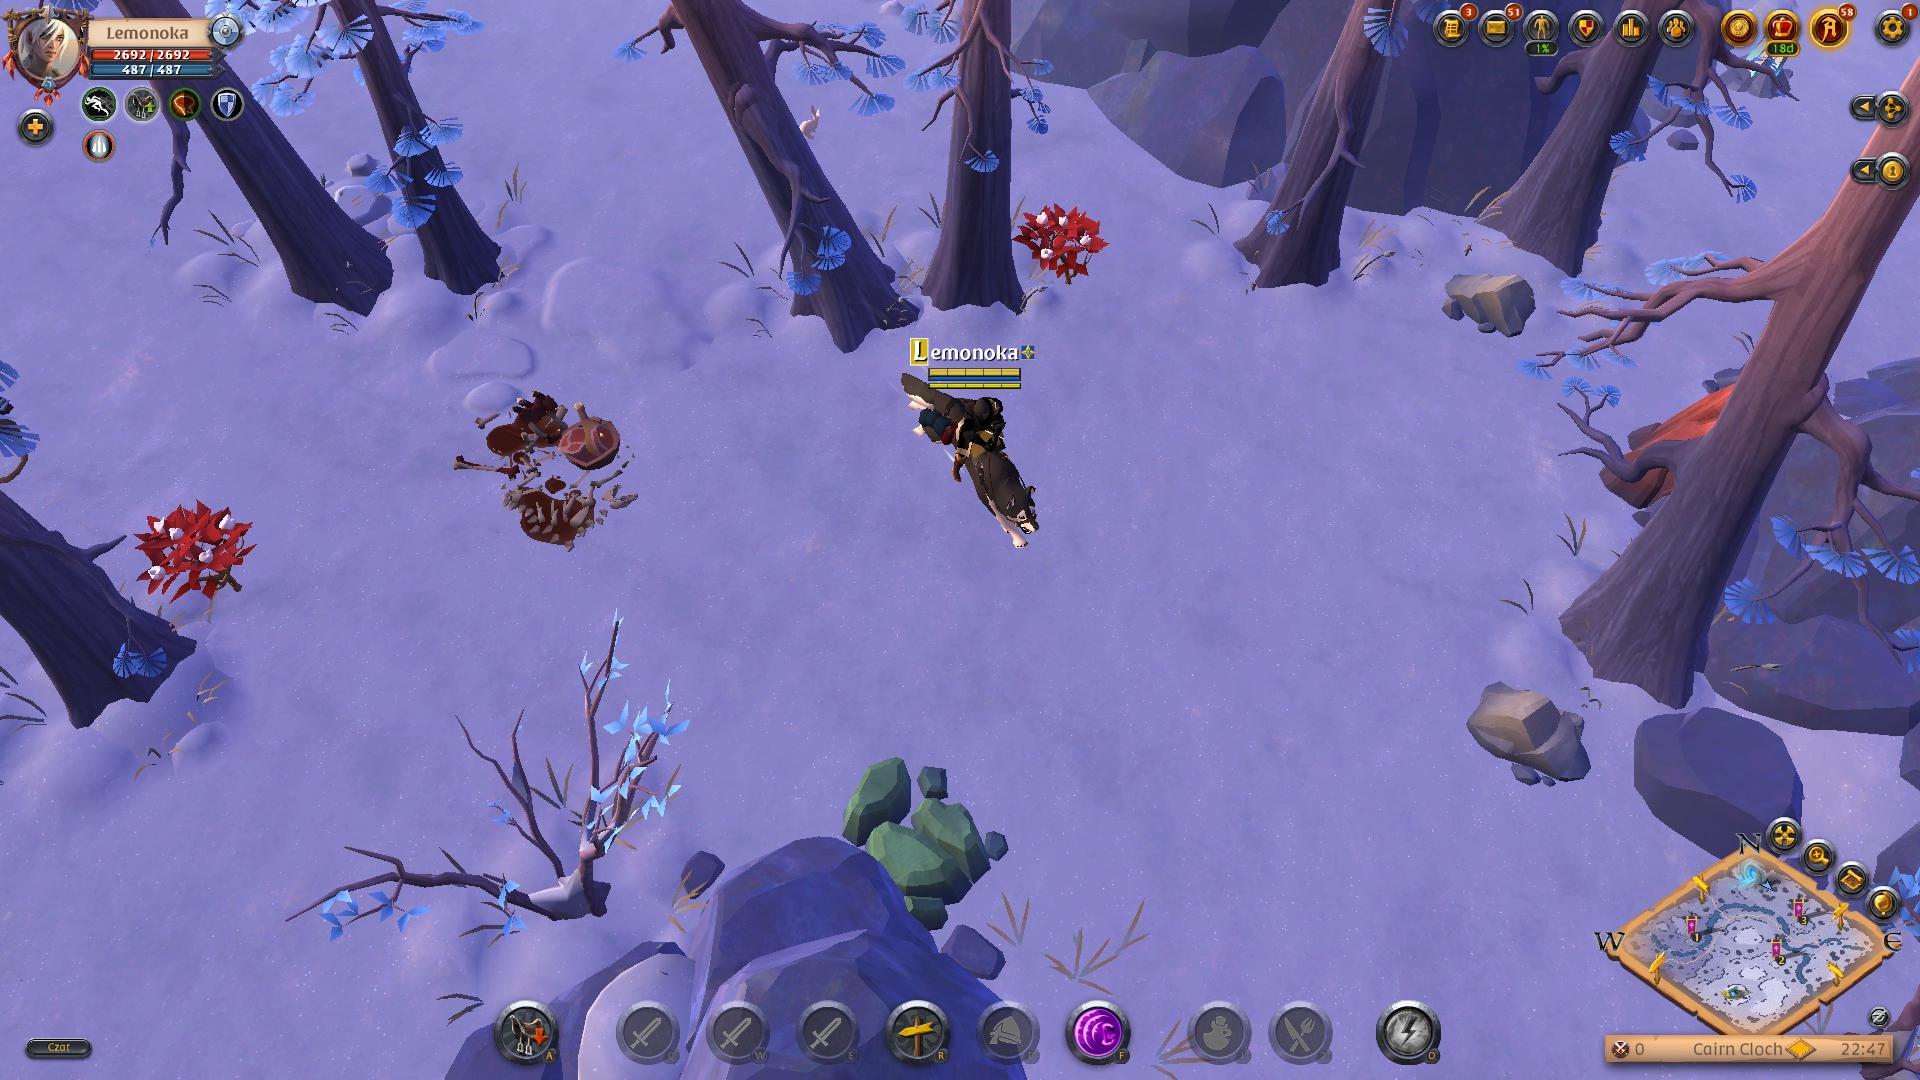fiber tier 5: (136, 497, 255, 611), (1023, 200, 1102, 281)
rock tier 1: (1470, 676, 1600, 794), (1445, 264, 1540, 345)
rock tier 3: (845, 756, 1009, 927)
